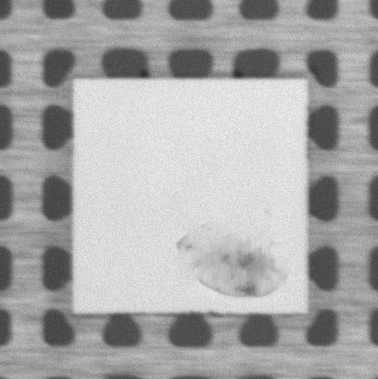DIE_INK: (179, 224, 290, 293)
